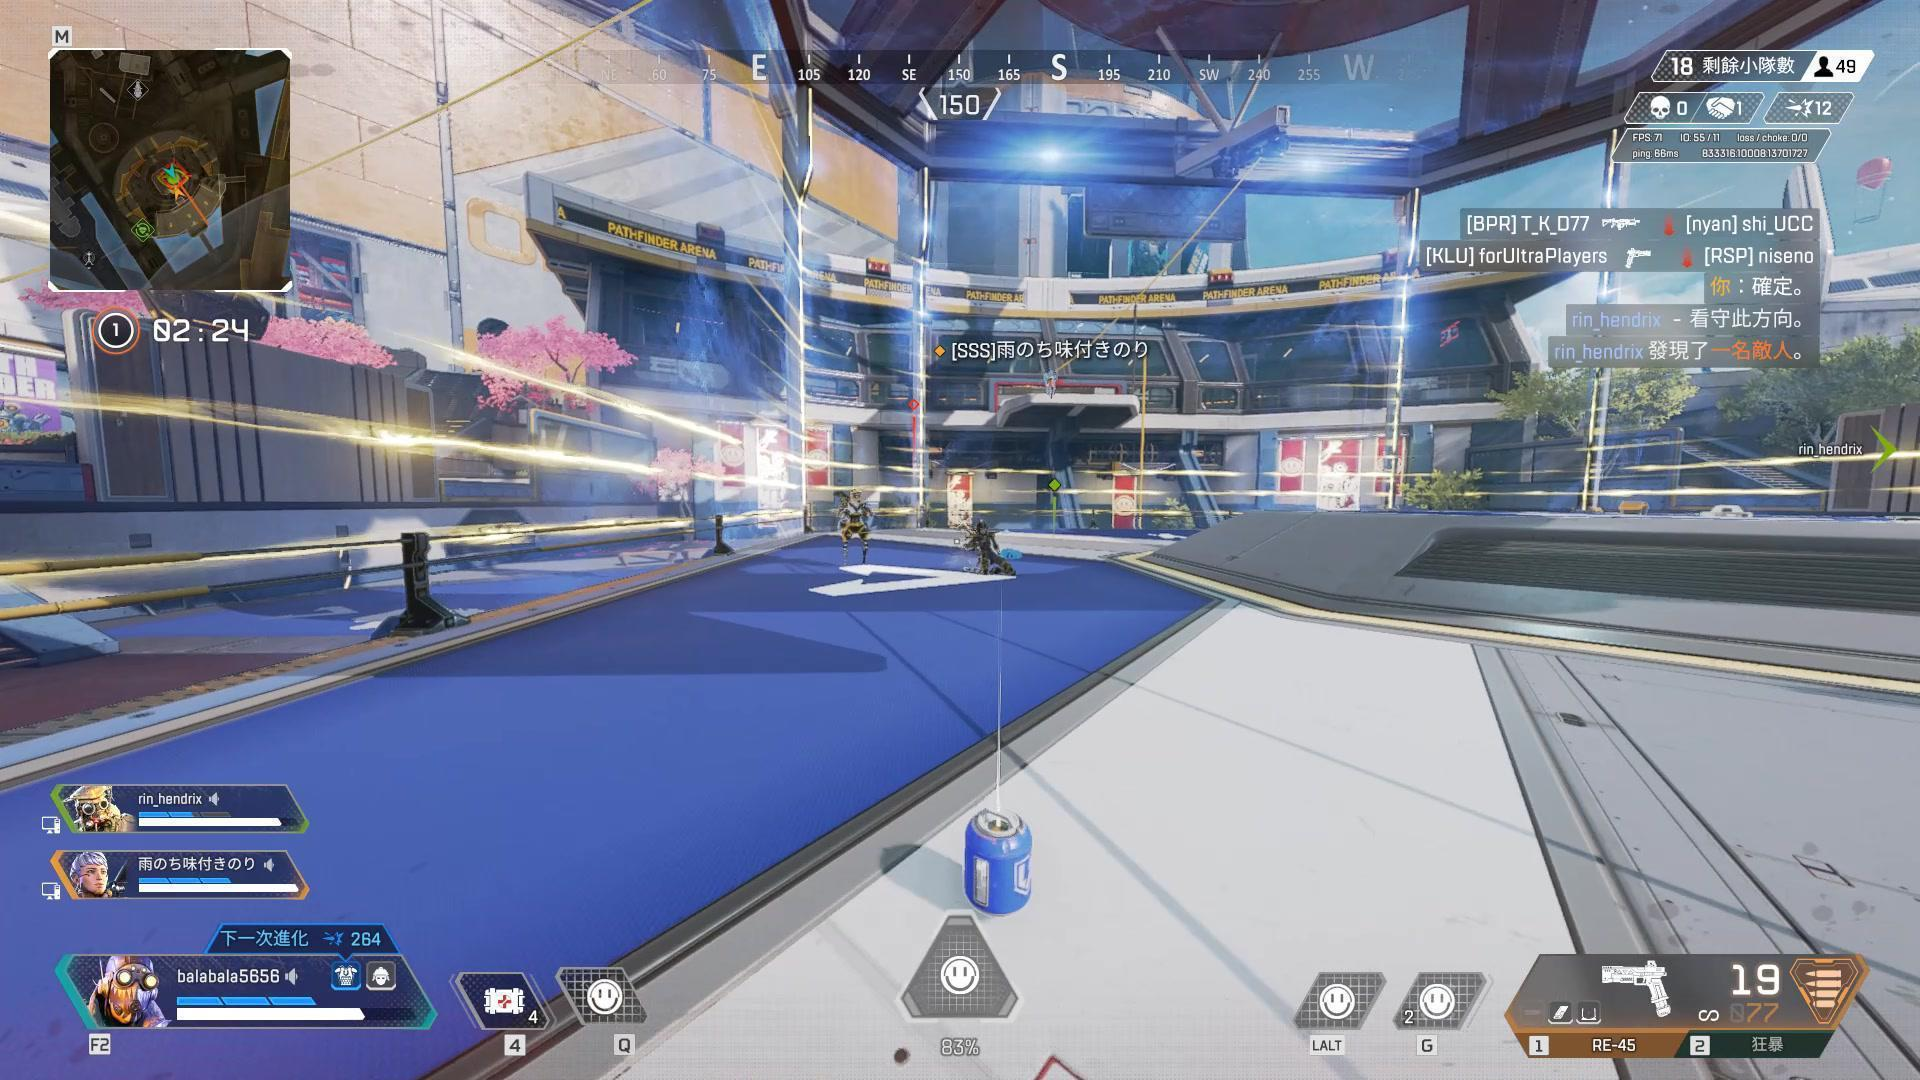avatar: (961, 516, 1019, 579), (835, 487, 874, 566)
